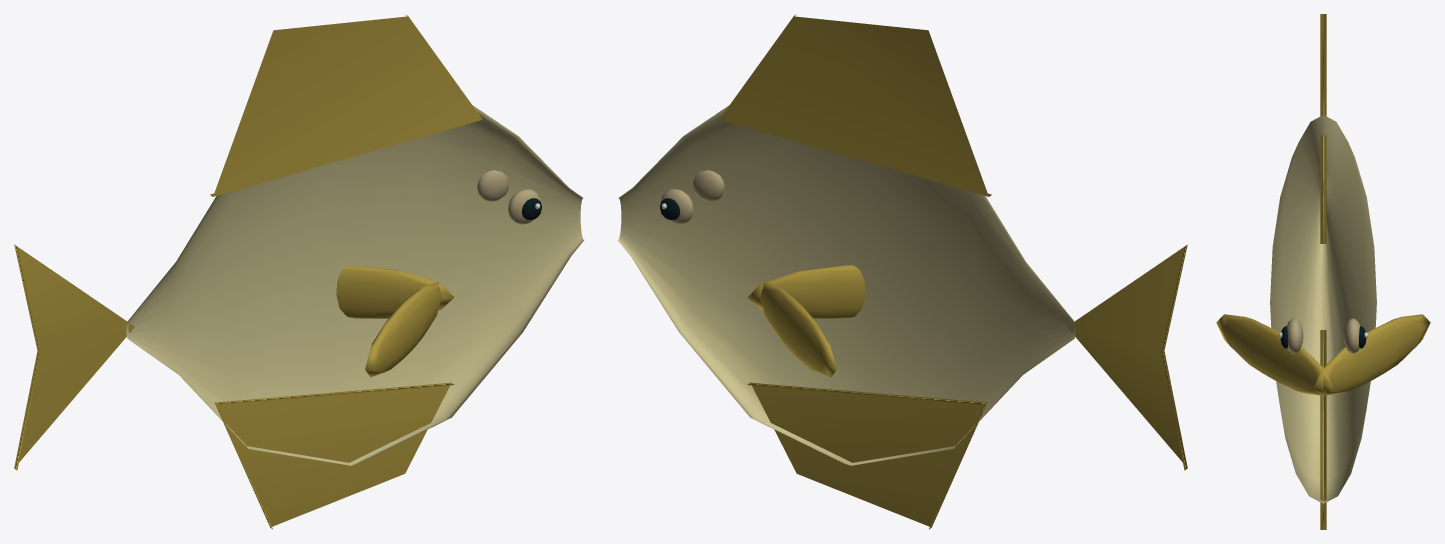
Rendered from fish-butterfly.glb.
3 views of the same model, side by side, from view 1: azimuth 30°, elevation 25°; view 2: azimuth 150°, elevation 25°; view 3: azimuth 270°, elevation 25° (orthographic). The views are drawn at different scales.
Visible parts, largest first — view 1: Original authored part; view 2: Original authored part; view 3: Original authored part.
Boxes of the visible parts, left/top/right/bottom form: Original authored part: left=14, top=14, right=583, bottom=529; Original authored part: left=618, top=14, right=1187, bottom=529; Original authored part: left=1216, top=14, right=1430, bottom=529.
Bounding box in the file's own units: 1.22 × 1.03 × 0.4211.
